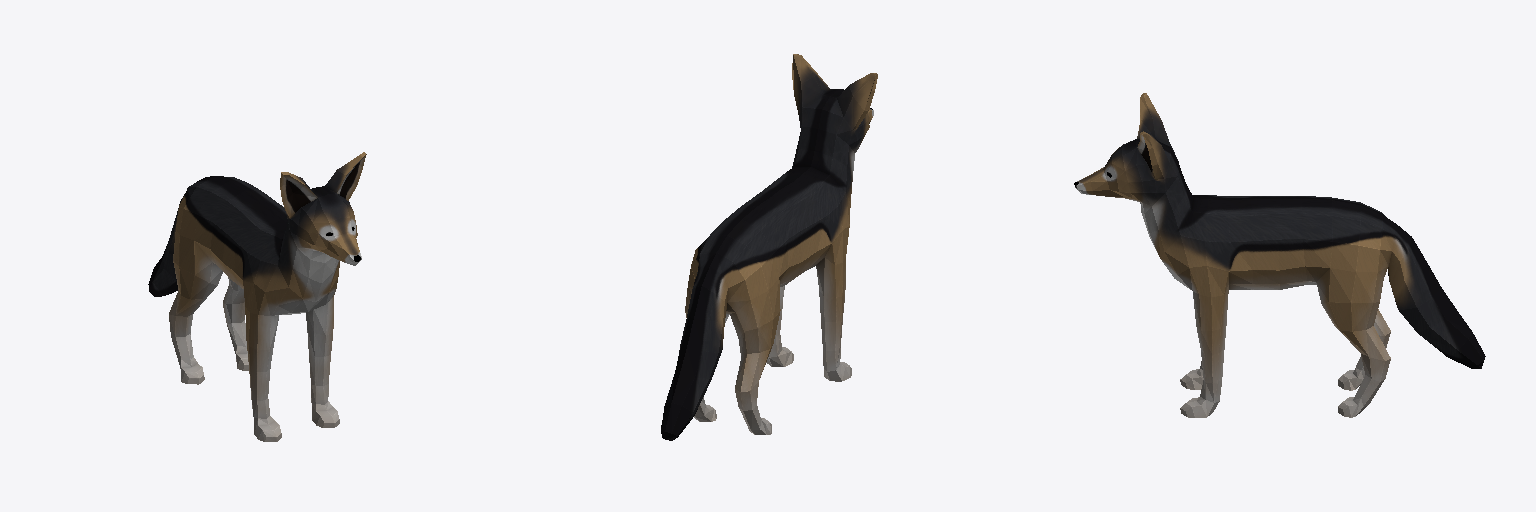
3 views of the same model, side by side, from view 1: azimuth 30°, elevation 25°; view 2: azimuth 150°, elevation 25°; view 3: azimuth 270°, elevation 25° (orthographic).
Visible parts, largest first — view 1: Jackal_Mesh; view 2: Jackal_Mesh; view 3: Jackal_Mesh.
Part boxes in pixels (bbox=[...]): Jackal_Mesh: bbox=[148, 152, 366, 441]; Jackal_Mesh: bbox=[661, 54, 877, 440]; Jackal_Mesh: bbox=[1074, 93, 1485, 417].
Bounding box in the file's own units: 1.37 × 4.47 × 5.83.
Materials: 1 (1 with a texture image).